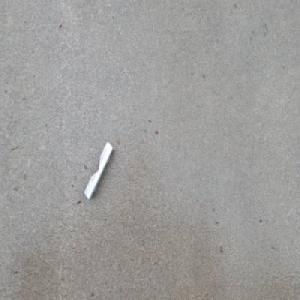ClampPart: (83, 141, 113, 201)
